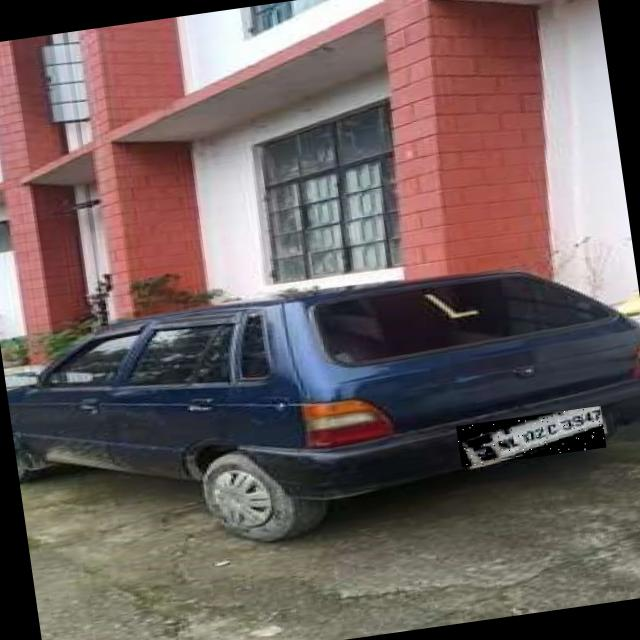Plate: (458, 407, 608, 469)
